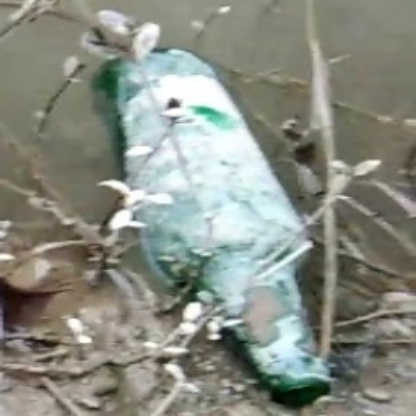bottle: (105, 46, 334, 399)
